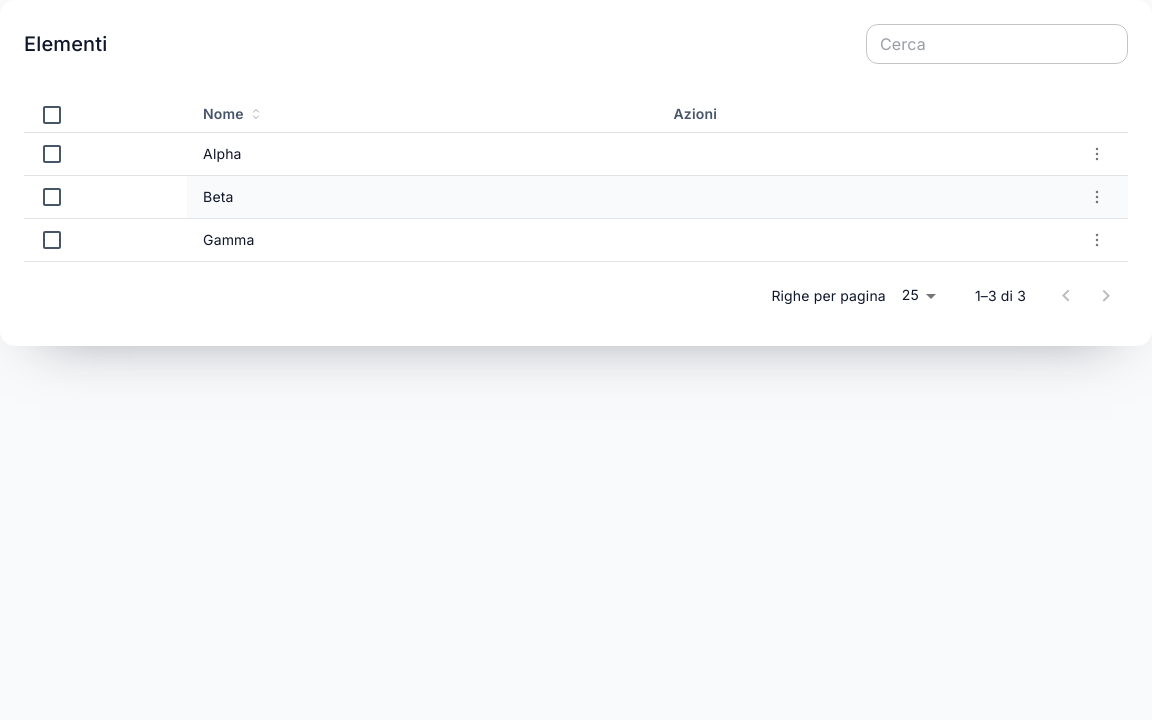
it: ListPage bulk selection › reports partial-failure counts when some deletes reject
Expected: the text "Alpha" is shown, [187,132,658,176]
Click the checkbox named "Seleziona tutte le righe": click(52, 115) [40,103,64,127]
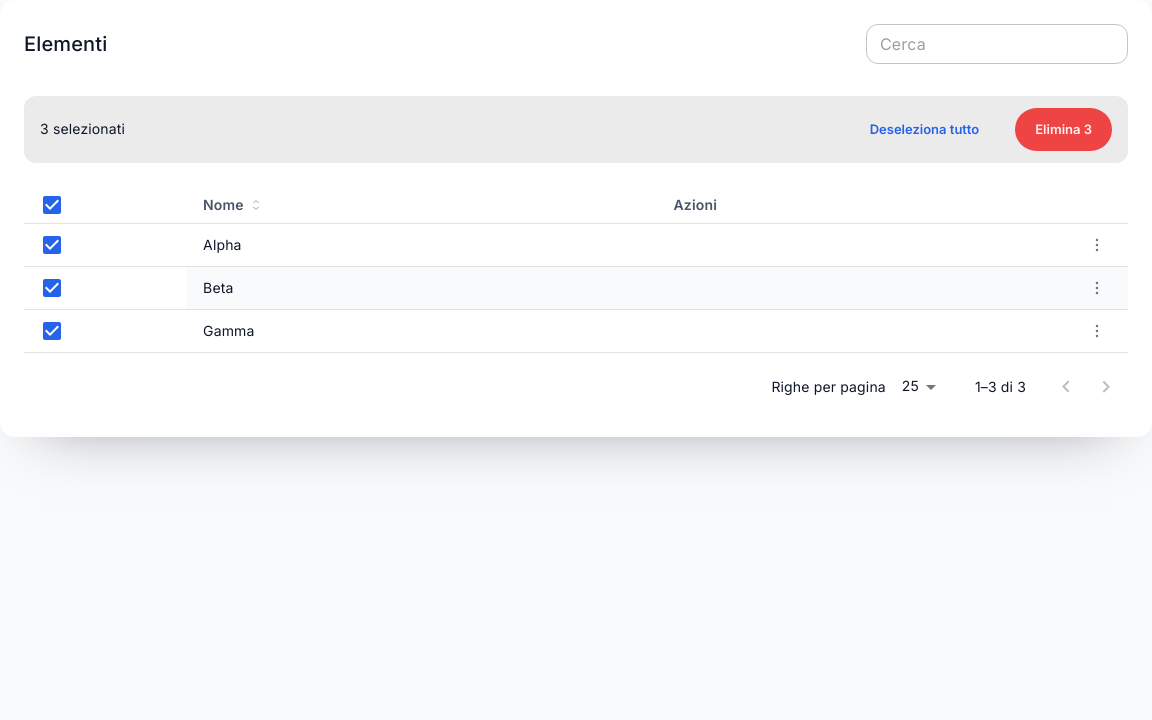
Now the text "3 selezionati" is shown, box [40,118,125,141]
Click the button "Elimina 3": click(1064, 129) [1015,108,1112,151]
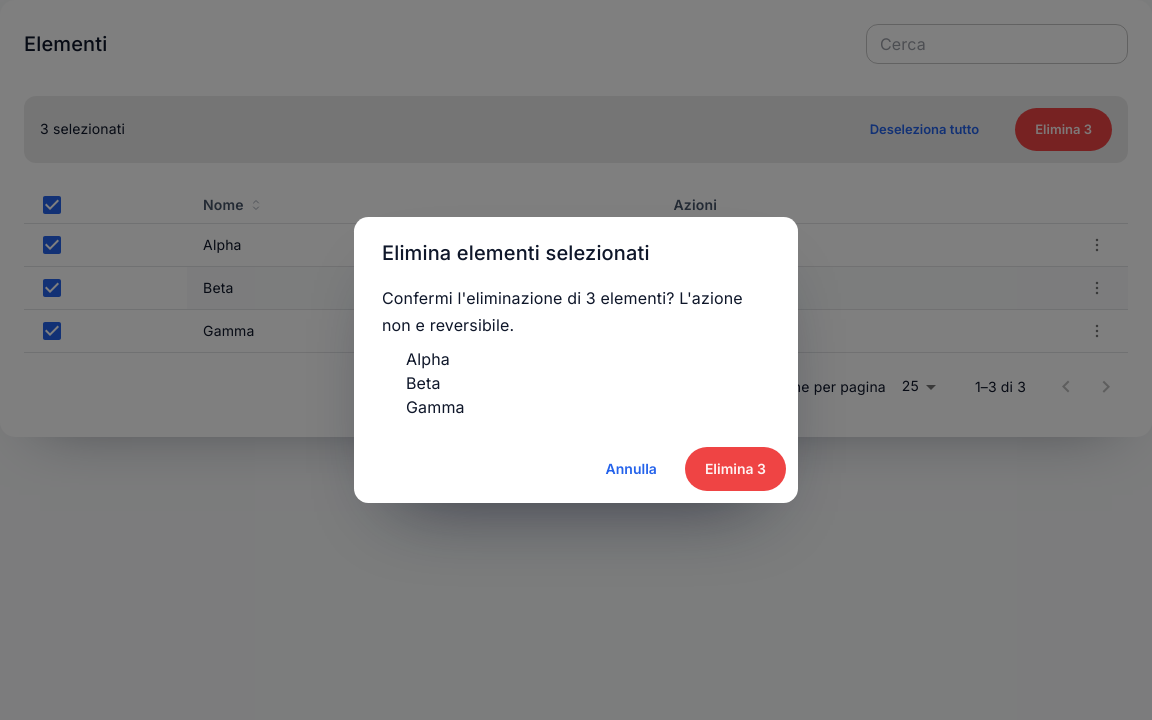
Click the button "Elimina 3": click(735, 469) [685,447,786,491]
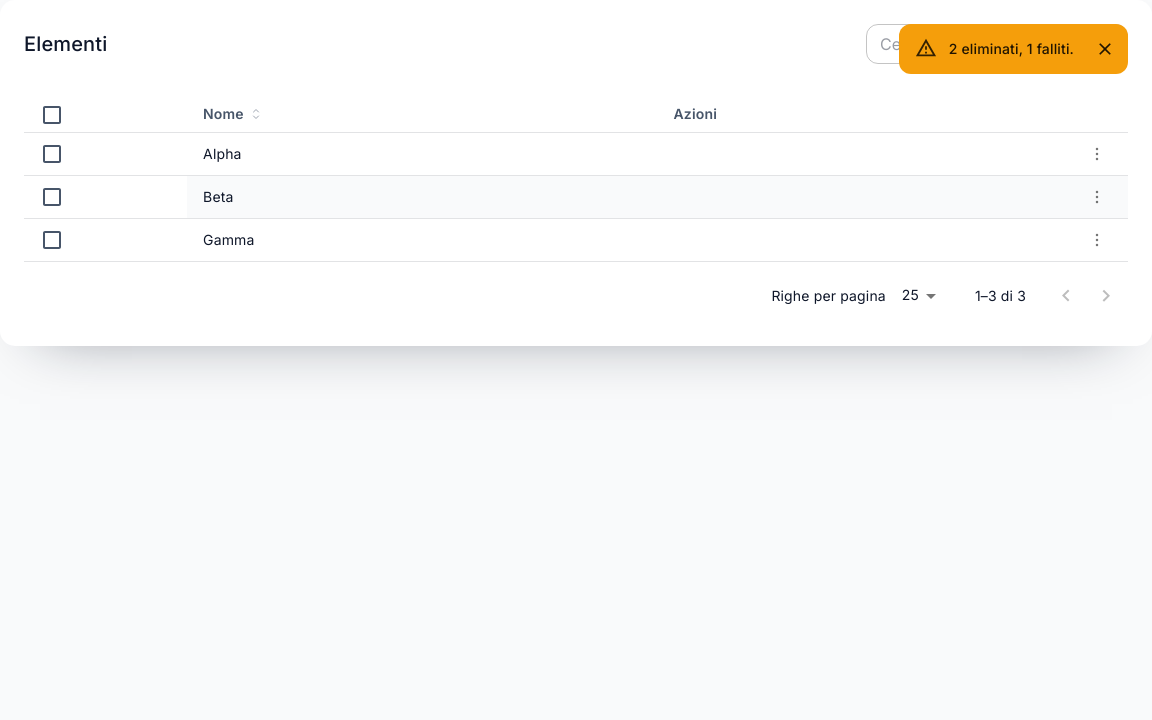
Now the text "2 eliminati, 1 falliti." is shown, box [949,40,1074,57]
